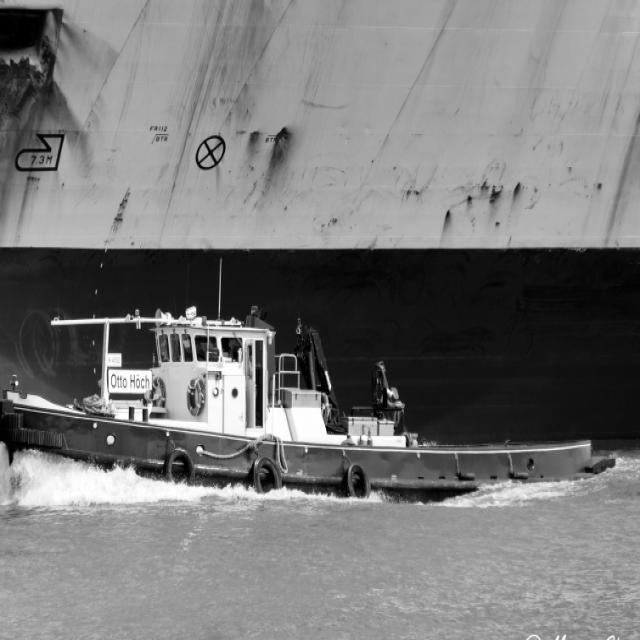tugboat: (1, 304, 621, 517)
